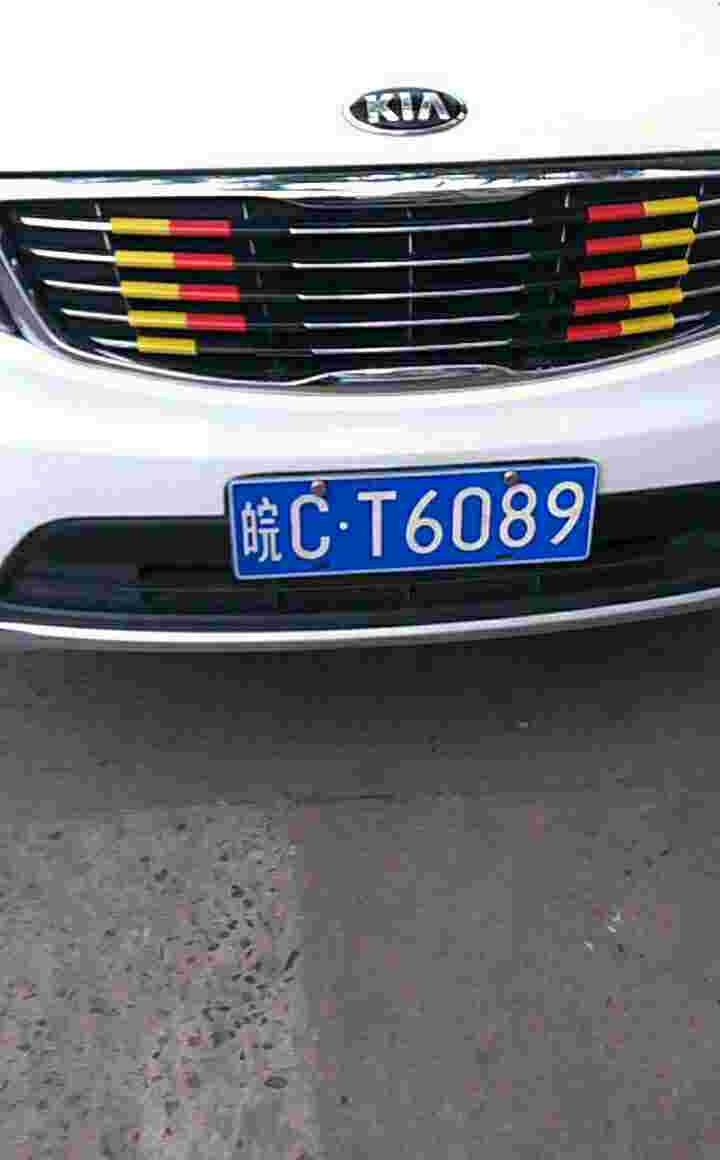license_plate: (225, 464, 602, 571)
